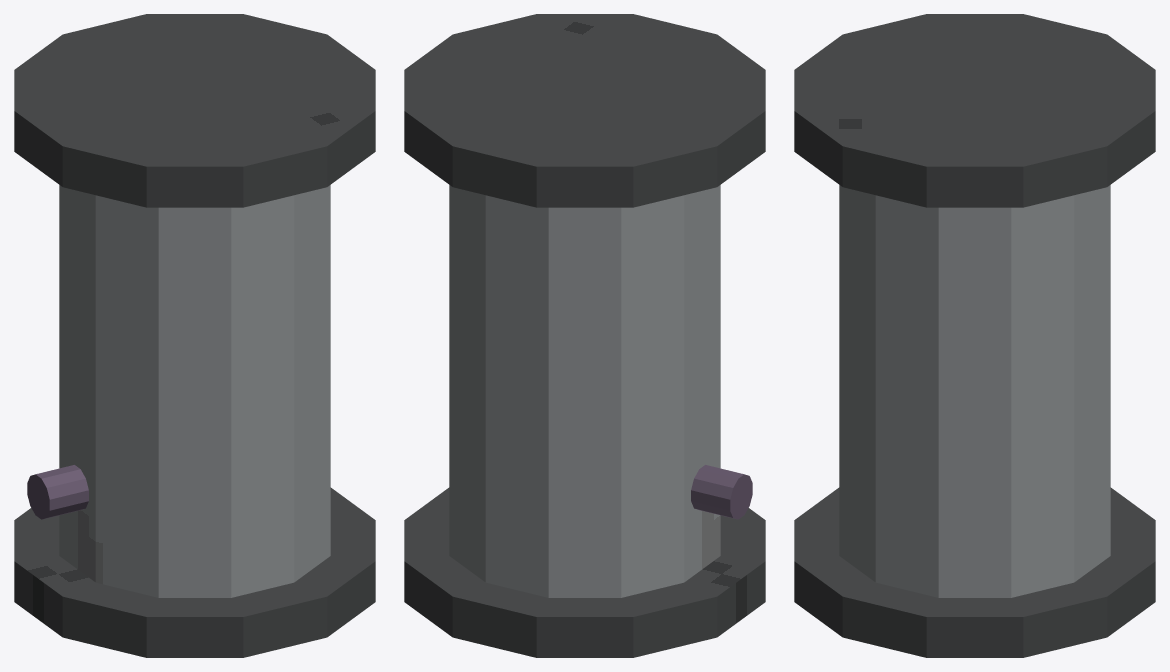
File: boiler.gltf
3 views of the same model, side by side, from view 1: azimuth 30°, elevation 25°; view 2: azimuth 150°, elevation 25°; view 3: azimuth 270°, elevation 25° (orthographic).
Parts seen in each view (by area): view 1: cylinder (×4); view 2: cylinder (×4); view 3: cylinder (×3).
Part boxes in pixels (x1=…): cylinder (×4): x1=14, y1=14, x2=375, y2=657; cylinder (×4): x1=404, y1=14, x2=765, y2=657; cylinder (×3): x1=794, y1=14, x2=1155, y2=657.
Bounding box in the file's own units: 1 × 1.5 × 1.
1 material, 1 textured.
